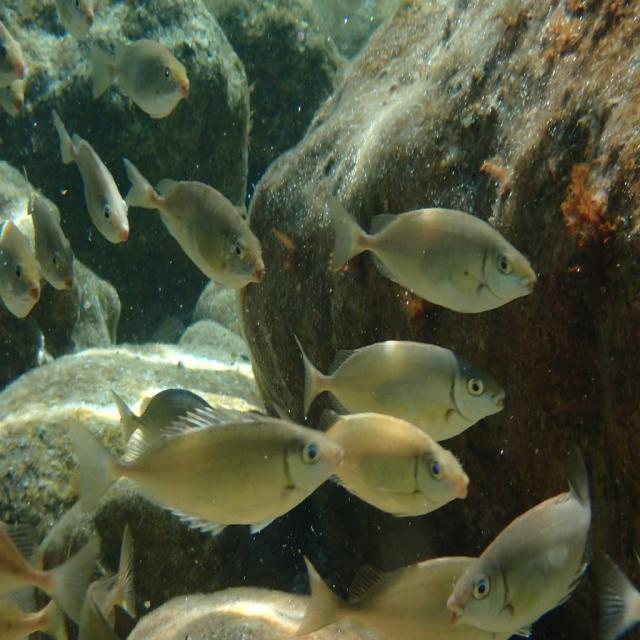Sokar Baligi: (60, 400, 353, 543), (444, 440, 610, 640), (320, 181, 544, 326), (124, 150, 270, 312), (81, 30, 192, 127)
